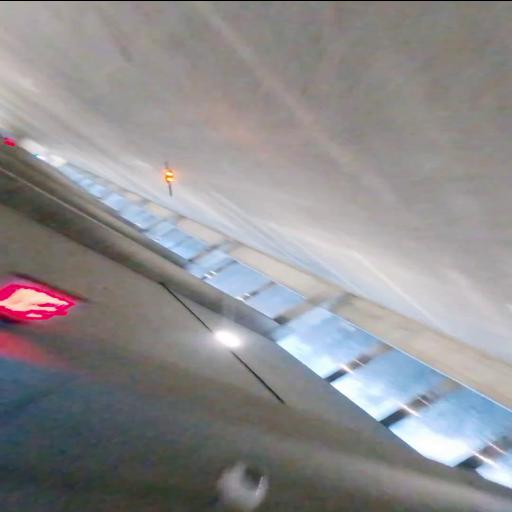uav: (157, 158, 179, 198)
